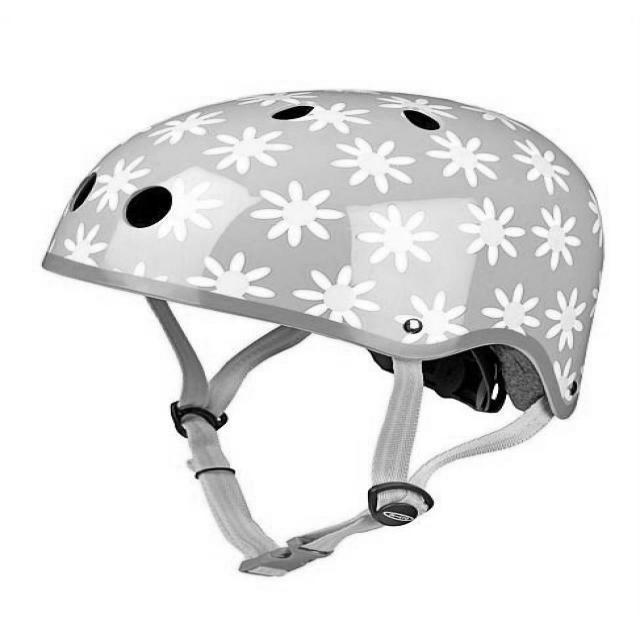helmet: (40, 51, 632, 458)
